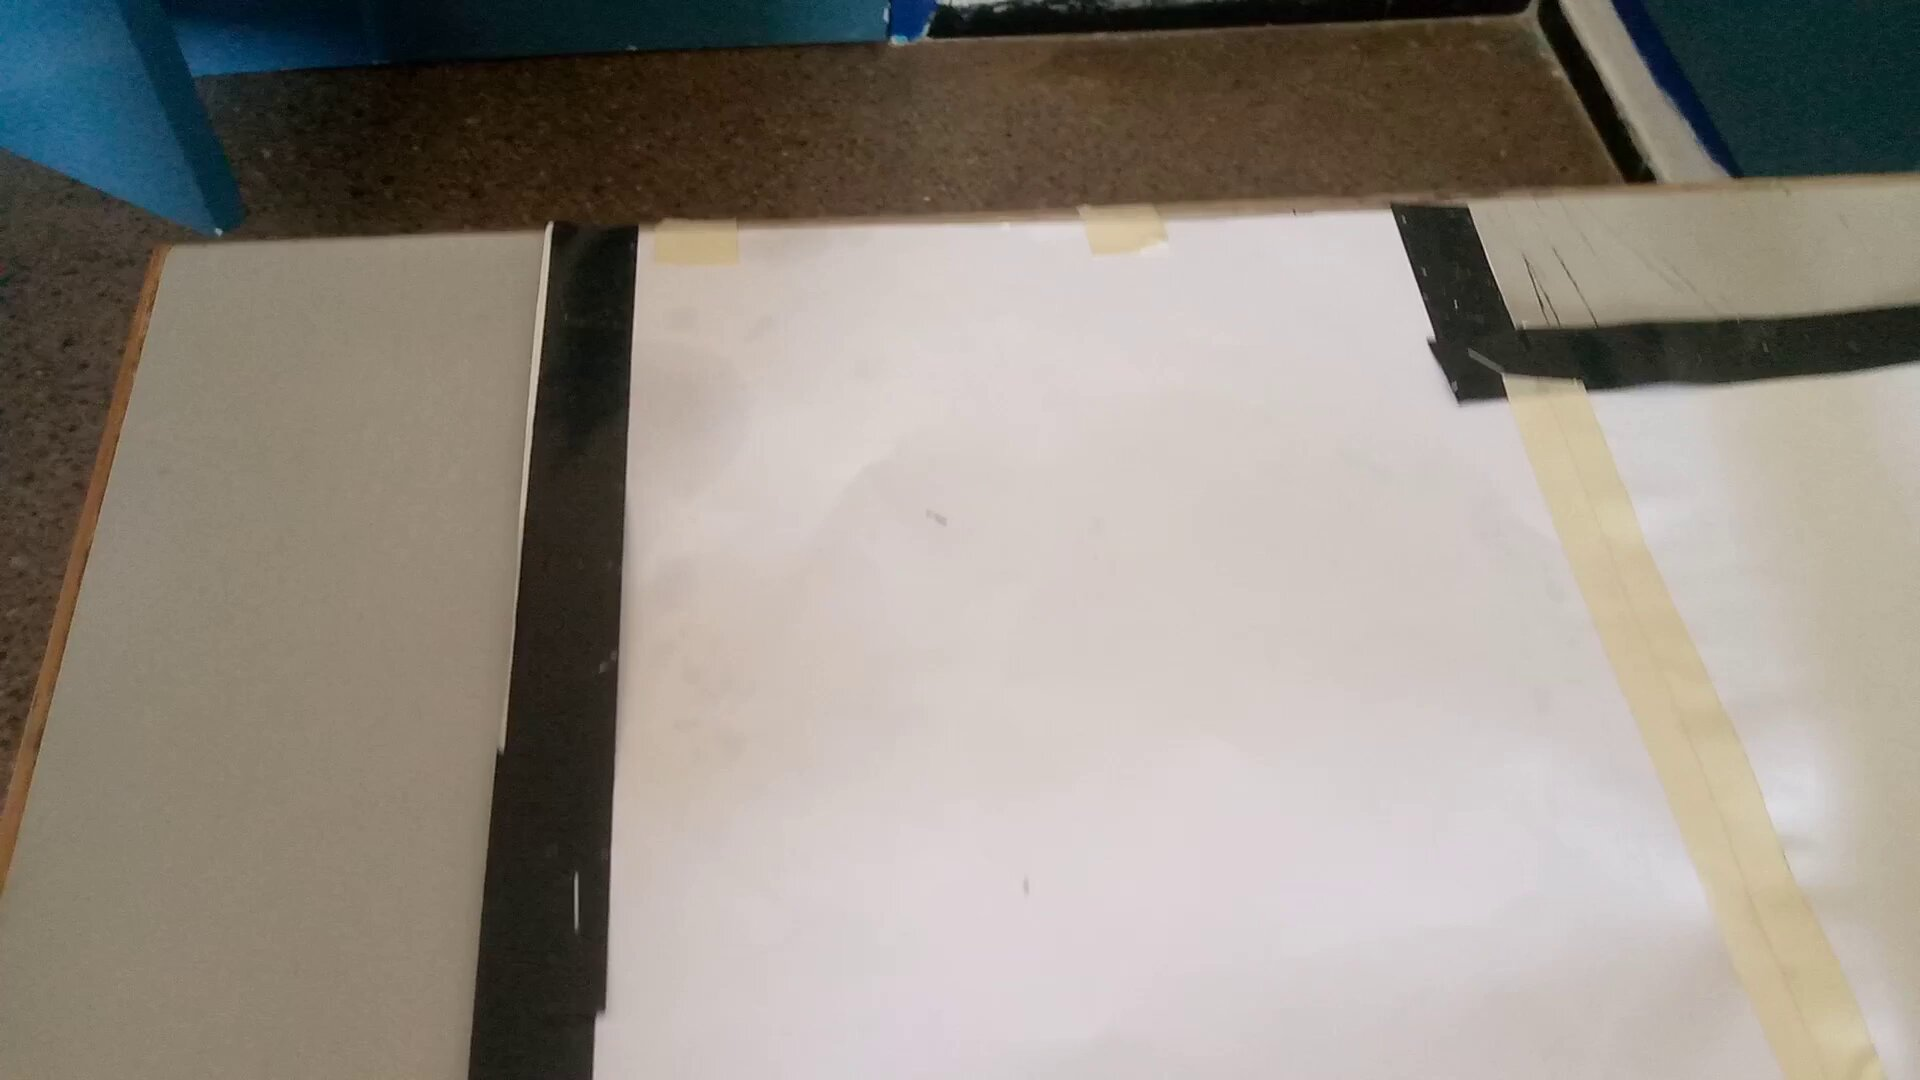right: (541, 211, 1855, 1080)
